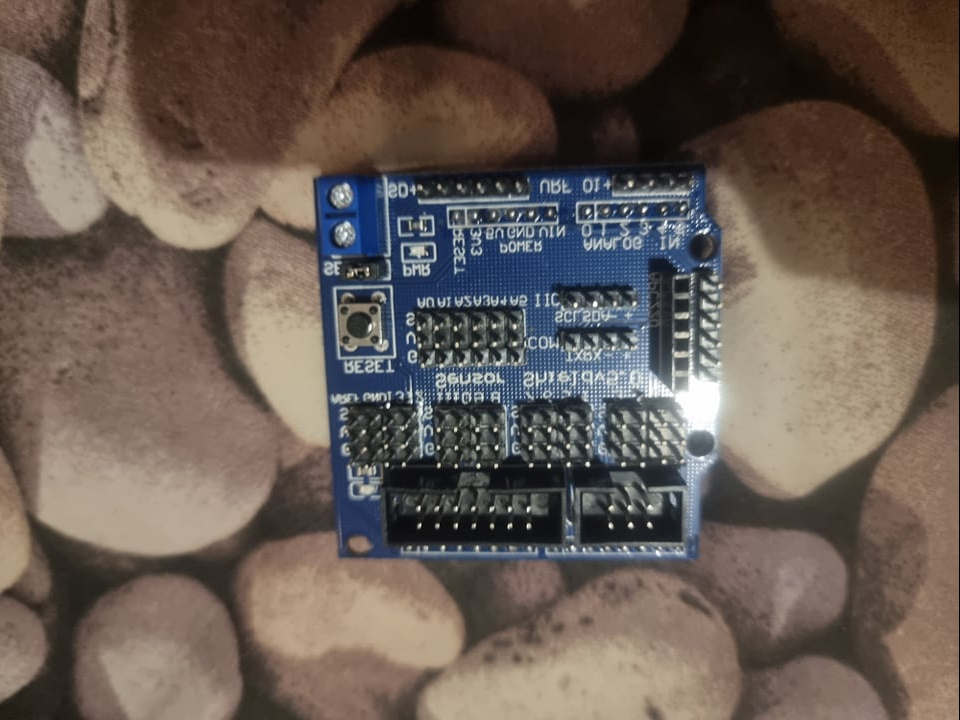5V EXPANSION: (313, 168, 725, 562)
